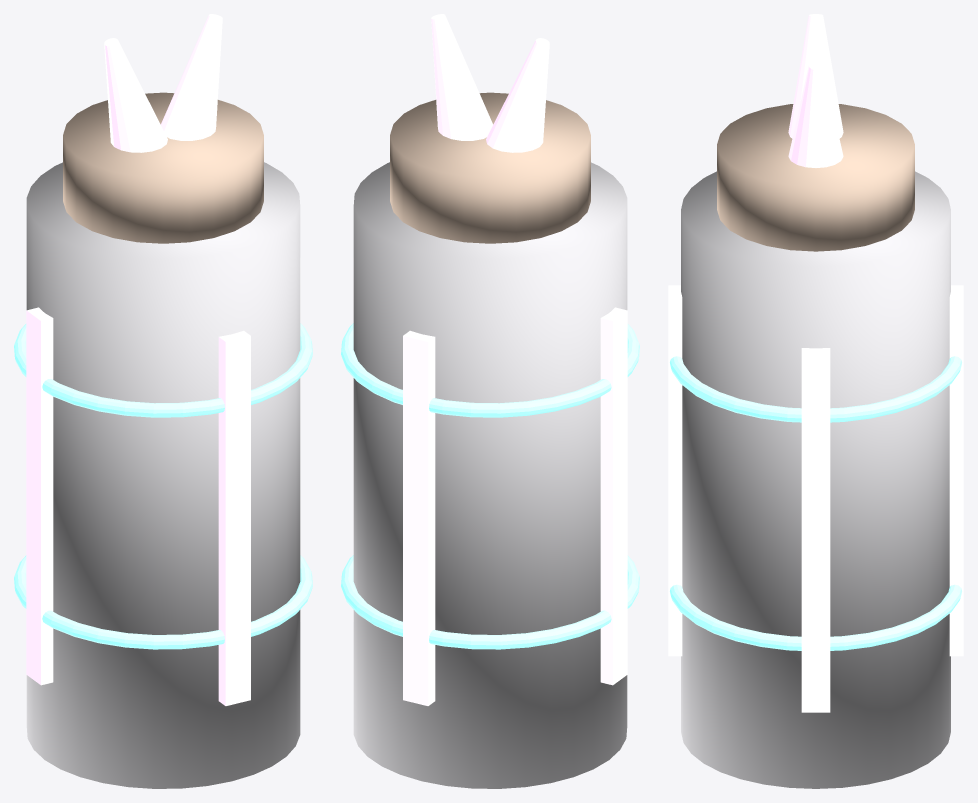
Rendered from Shield_Battery_Cell.glb.
3 views of the same model, side by side, from view 1: azimuth 30°, elevation 25°; view 2: azimuth 150°, elevation 25°; view 3: azimuth 270°, elevation 25° (orthographic).
Visible parts, largest first — view 1: GEO-battery_casing, GEO-battery_top_cap, GEO-battery_gauge_3, GEO-battery_gauge_2, GEO-battery_rib_0.11, GEO-battery_rib_0.25, GEO-battery_ear_1, GEO-battery_ear_-1; view 2: GEO-battery_casing, GEO-battery_top_cap, GEO-battery_gauge_1, GEO-battery_gauge_2, GEO-battery_rib_0.11, GEO-battery_rib_0.25, GEO-battery_ear_1, GEO-battery_ear_-1; view 3: GEO-battery_casing, GEO-battery_top_cap, GEO-battery_gauge_0, GEO-battery_gauge_1, GEO-battery_gauge_3, GEO-battery_rib_0.11, GEO-battery_rib_0.25, GEO-battery_ear_1, GEO-battery_ear_-1.
Part boxes in pixels (x1=…): GEO-battery_casing: x1=26, y1=162, x2=300, y2=788; GEO-battery_top_cap: x1=63, y1=92, x2=263, y2=243; GEO-battery_gauge_3: x1=218, y1=330, x2=250, y2=705; GEO-battery_gauge_2: x1=26, y1=307, x2=53, y2=685; GEO-battery_rib_0.11: x1=14, y1=555, x2=312, y2=649; GEO-battery_rib_0.25: x1=14, y1=323, x2=312, y2=417; GEO-battery_ear_1: x1=160, y1=14, x2=222, y2=140; GEO-battery_ear_-1: x1=104, y1=38, x2=167, y2=152; GEO-battery_casing: x1=353, y1=162, x2=627, y2=788; GEO-battery_top_cap: x1=390, y1=92, x2=590, y2=243; GEO-battery_gauge_1: x1=403, y1=330, x2=435, y2=705; GEO-battery_gauge_2: x1=600, y1=307, x2=627, y2=685; GEO-battery_rib_0.11: x1=341, y1=555, x2=639, y2=649; GEO-battery_rib_0.25: x1=341, y1=323, x2=639, y2=417; GEO-battery_ear_1: x1=431, y1=14, x2=493, y2=140; GEO-battery_ear_-1: x1=486, y1=38, x2=549, y2=152; GEO-battery_casing: x1=681, y1=171, x2=950, y2=788; GEO-battery_top_cap: x1=717, y1=104, x2=914, y2=251; GEO-battery_gauge_0: x1=801, y1=348, x2=830, y2=712; GEO-battery_gauge_1: x1=949, y1=285, x2=963, y2=656; GEO-battery_gauge_3: x1=668, y1=285, x2=682, y2=656; GEO-battery_rib_0.11: x1=670, y1=584, x2=961, y2=650; GEO-battery_rib_0.25: x1=670, y1=356, x2=961, y2=422; GEO-battery_ear_1: x1=788, y1=61, x2=843, y2=167; GEO-battery_ear_-1: x1=788, y1=14, x2=843, y2=138.
Size of the model in its own units: 0.164 by 0.4248 by 0.164.
